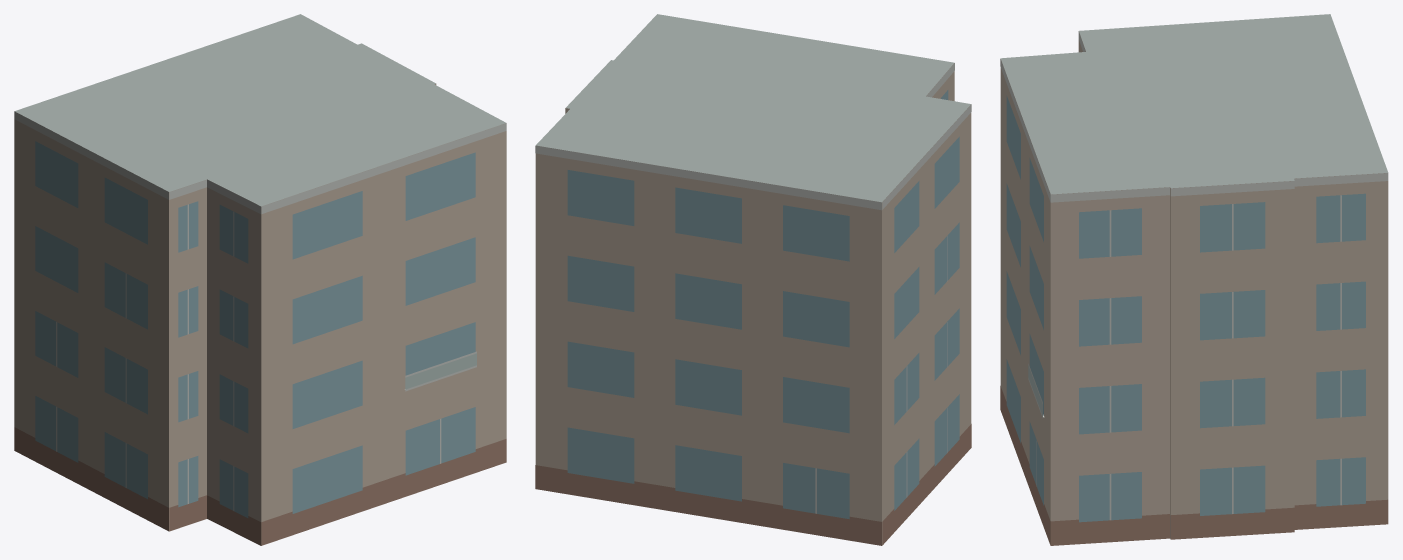
The model's file is survey-upis-32527438.glb.
3 views of the same model, side by side, from view 1: azimuth 30°, elevation 25°; view 2: azimuth 150°, elevation 25°; view 3: azimuth 270°, elevation 25° (orthographic). The views are drawn at different scales.
Parts seen in each view (by area): view 1: survey-upis-32527438.tmp; view 2: survey-upis-32527438.tmp; view 3: survey-upis-32527438.tmp.
Part boxes in pixels (left/top/right/bottom): survey-upis-32527438.tmp: left=14, top=14, right=506, bottom=545; survey-upis-32527438.tmp: left=535, top=14, right=971, bottom=545; survey-upis-32527438.tmp: left=1000, top=14, right=1388, bottom=545.
Bounding box in the file's own units: 11.57 × 10.5 × 10.52.
